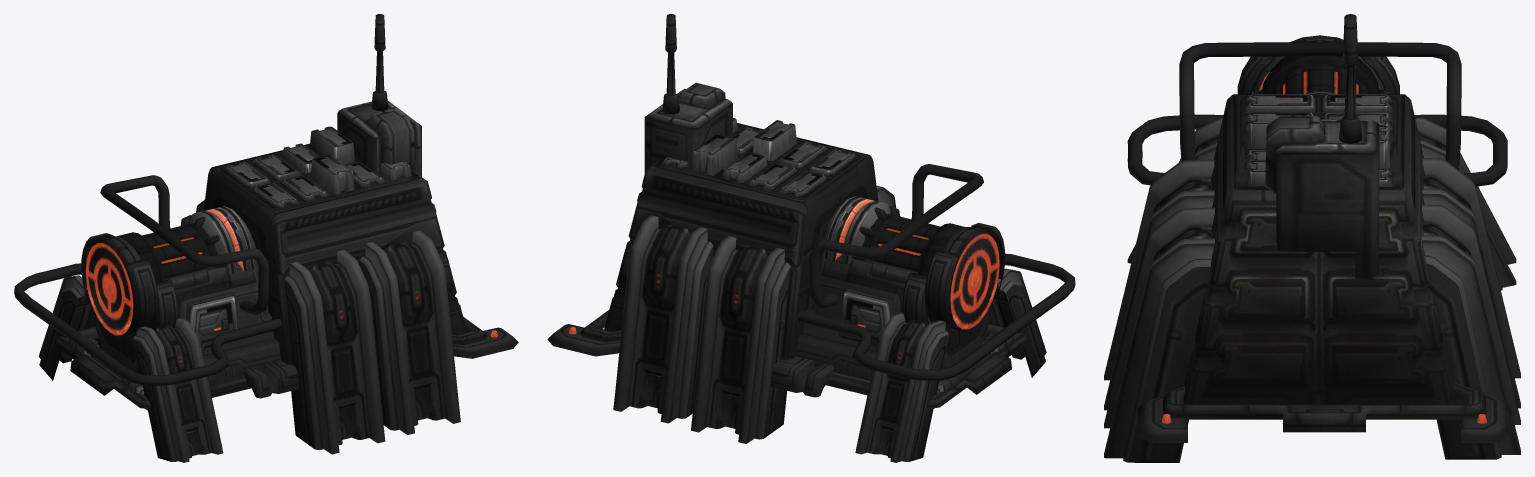
Rendered from KorhalGateControl_MP.glb.
3 views of the same model, side by side, from view 1: azimuth 30°, elevation 25°; view 2: azimuth 150°, elevation 25°; view 3: azimuth 270°, elevation 25° (orthographic). The views are drawn at different scales.
Parts seen in each view (by area): view 1: Mesh.001; view 2: Mesh.001; view 3: Mesh.001.
Part boxes in pixels (x1=…): Mesh.001: x1=14, y1=14, x2=518, y2=462; Mesh.001: x1=547, y1=14, x2=1075, y2=462; Mesh.001: x1=1104, y1=14, x2=1520, y2=462.
Bounding box in the file's own units: 3.83 × 3.19 × 2.68.
2 materials, 2 textured.
